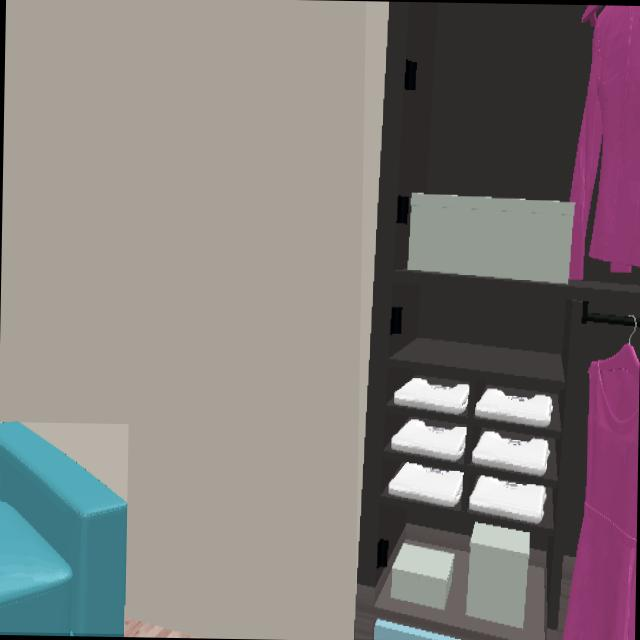sofa: (0, 423, 127, 634)
wardrobe: (354, 1, 640, 640)
